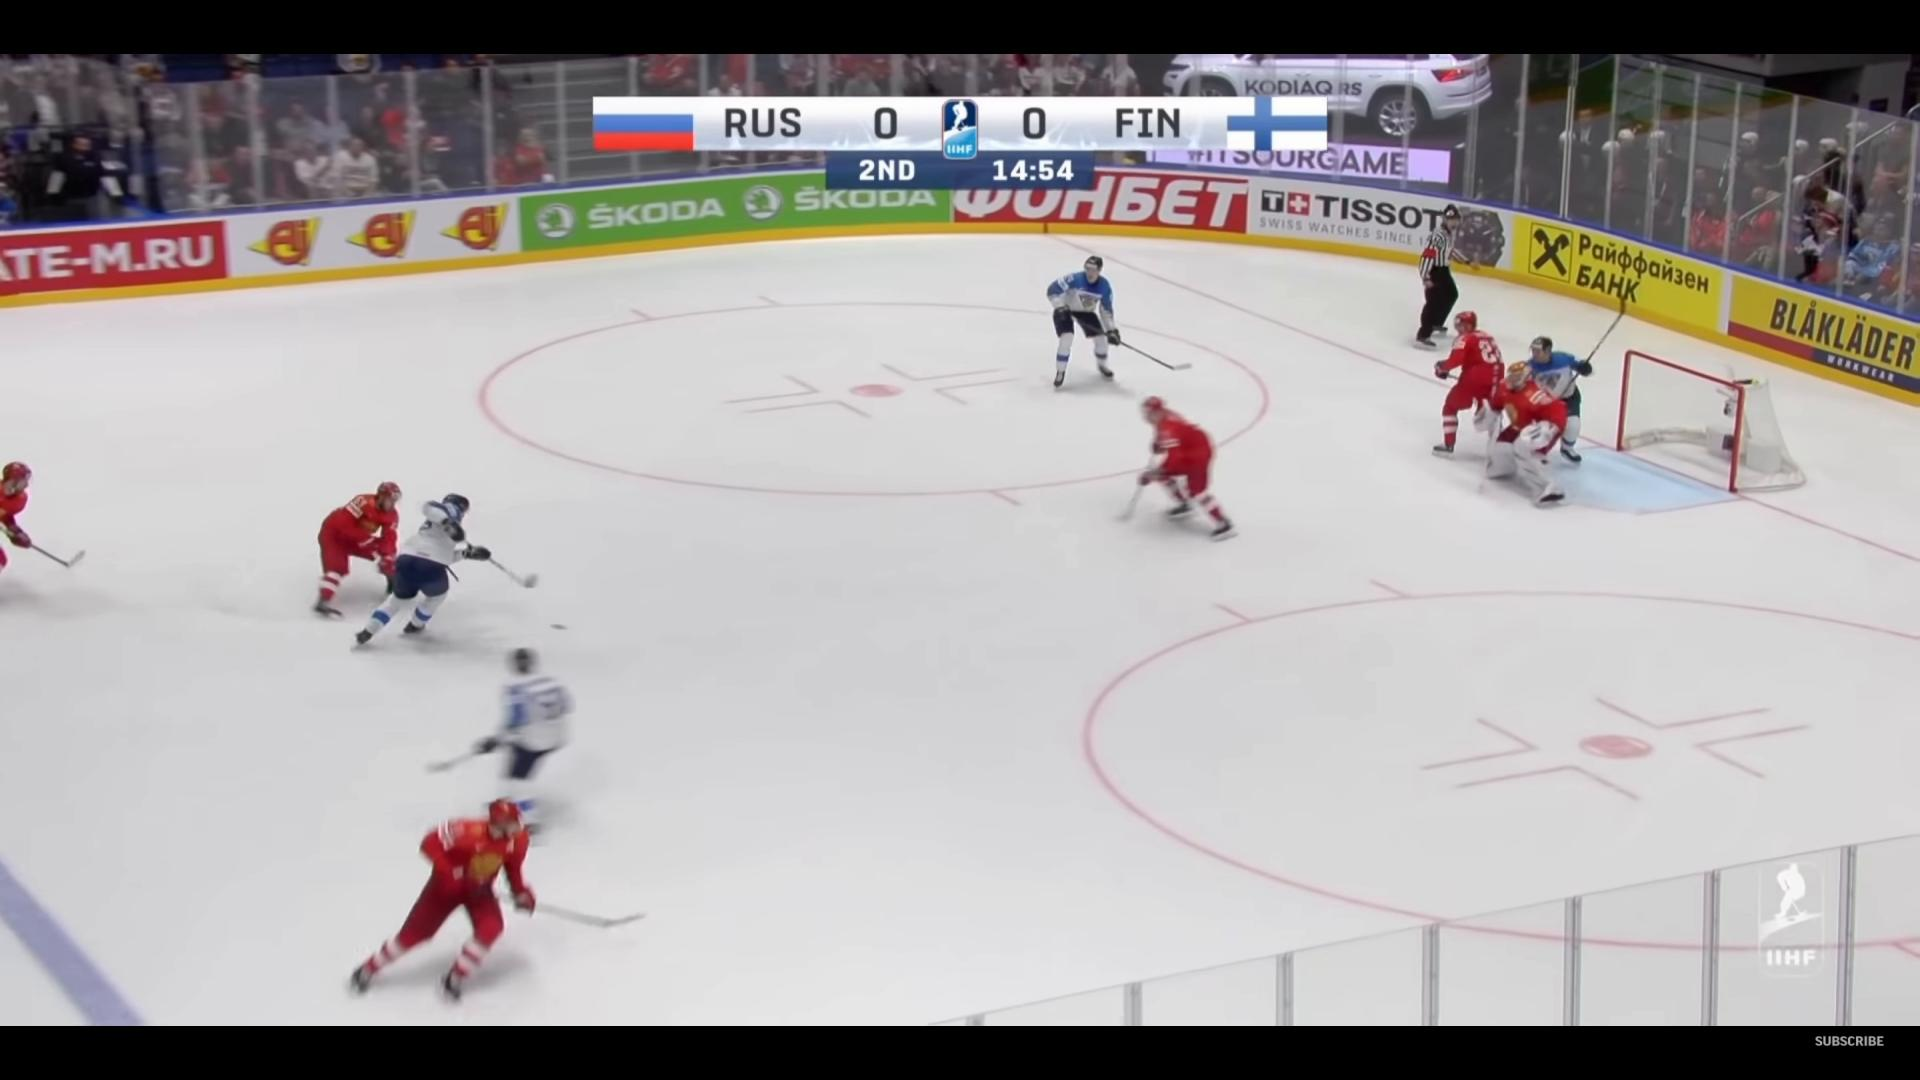puck: (549, 622, 568, 629)
